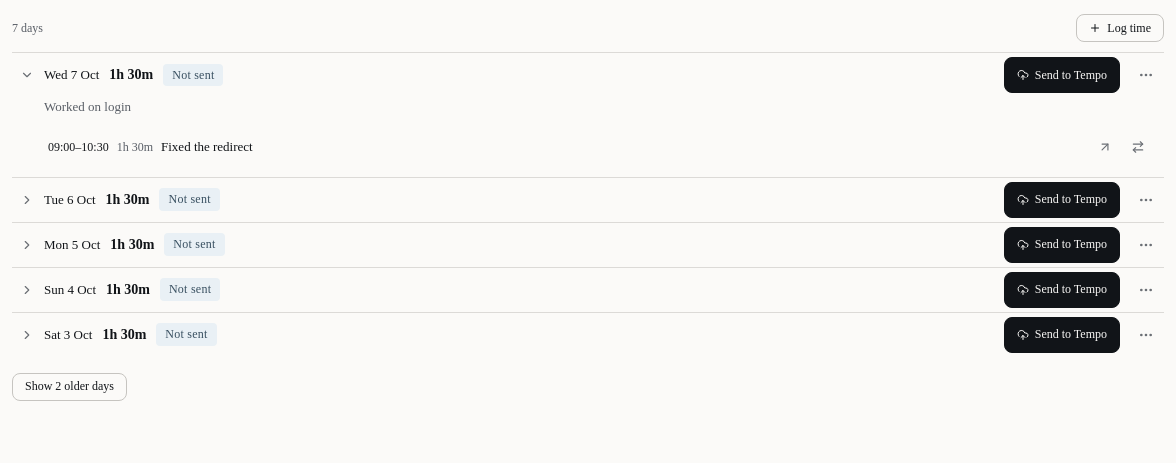
Test: older days › shows the newest 5 and expands the rest
The width and height of the screenshot is (1176, 463).
Expected: the number of elements with class "task-day" is 5, x1=12 y1=52 x2=1164 y2=177; x1=12 y1=177 x2=1164 y2=222; x1=12 y1=222 x2=1164 y2=267; x1=12 y1=267 x2=1164 y2=312; x1=12 y1=312 x2=1164 y2=357
Click the button "Show 2 older days" at (70, 387), box x1=12 y1=373 x2=127 y2=401
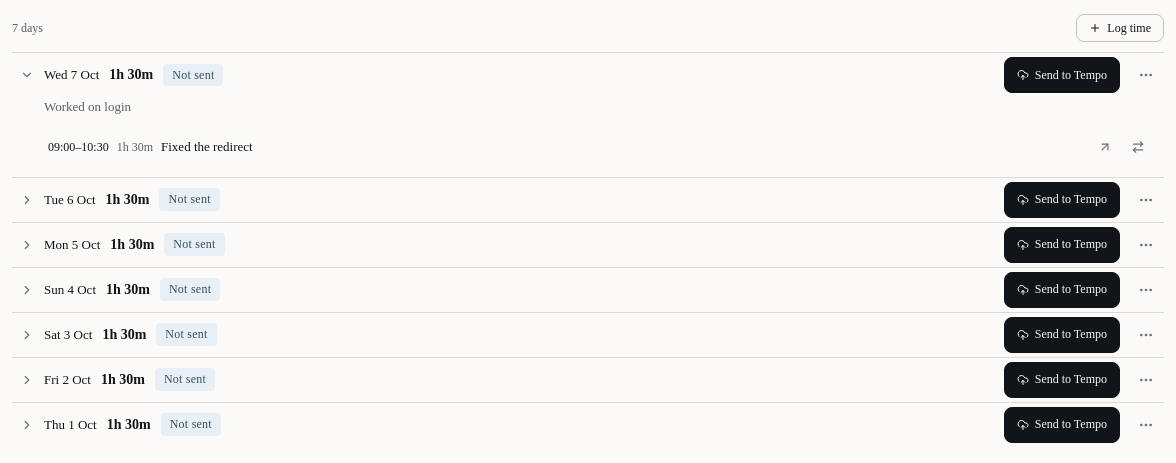
Expected: the number of elements with class "task-day" is 7
